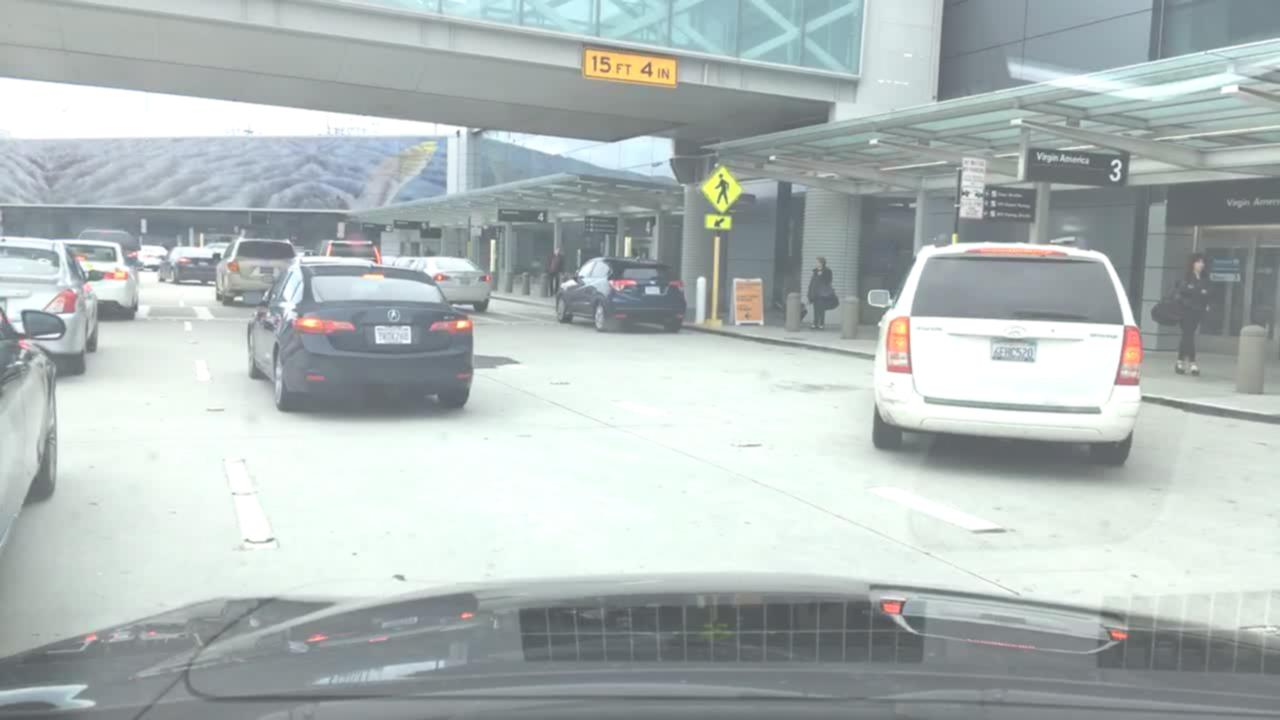Hyundai: (1001, 321, 1038, 346)
acura: (382, 304, 408, 330)
